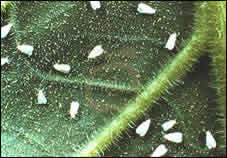whitefly: (15, 40, 34, 56), (135, 118, 151, 137), (136, 2, 157, 16), (51, 62, 71, 76), (87, 45, 104, 60), (165, 31, 177, 52), (162, 132, 183, 144), (35, 87, 48, 106), (205, 130, 217, 150), (69, 101, 80, 120), (161, 119, 177, 131)
